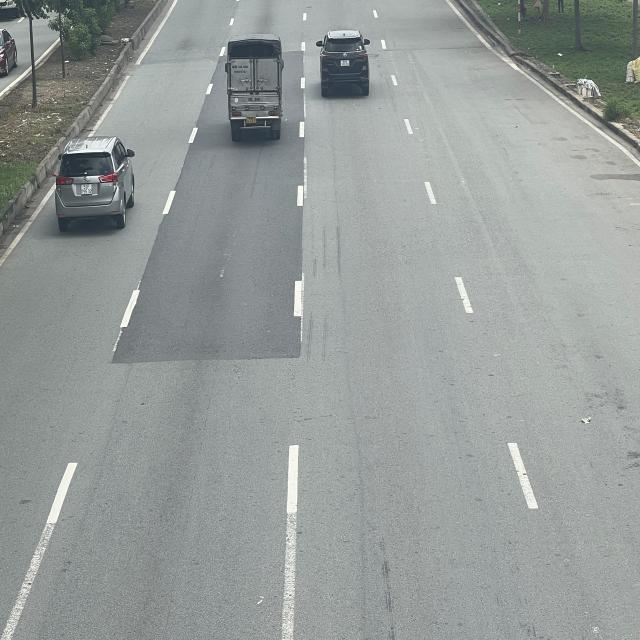car: (54, 135, 136, 226), (316, 29, 371, 96)
truck: (223, 34, 284, 138)
